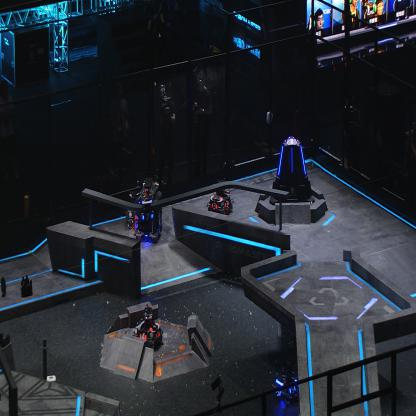car: (134, 180, 163, 242), (133, 300, 164, 352), (272, 359, 302, 407), (125, 185, 150, 227), (207, 179, 233, 215)
